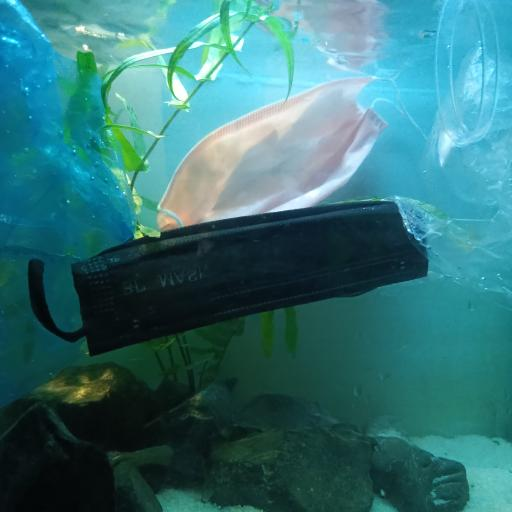mask: (19, 197, 428, 358), (157, 75, 427, 228)
plastic_bag: (0, 0, 137, 258), (397, 39, 512, 308)
plastic_cup: (431, 2, 512, 146)
